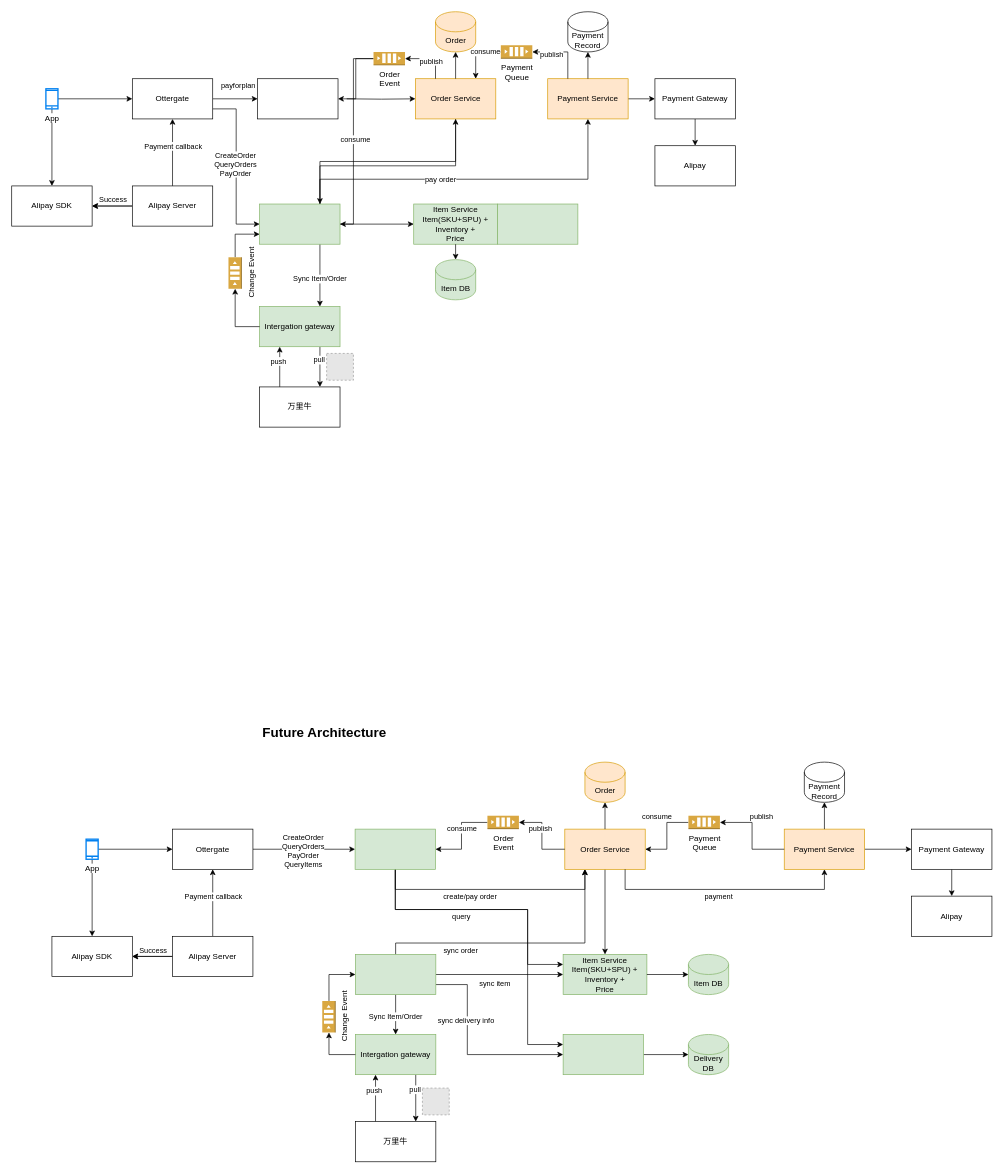
This 1004x1174 diagram has some shape labels left out. Grey dashed boxes stand in for pictures. The shapes that lost their labels are listed below. From the top down, each one's box as (x1, y1, x2, y2) in pixels, then its label:
(257, 78, 338, 119): SAAS Service Subscription+Plan
(259, 203, 340, 244): Mall Service 商品系统业务逻辑
(497, 203, 578, 244): Delivery
(354, 828, 436, 869): Shop Service 商品系统业务逻辑
(355, 954, 436, 995): Shop Sync Service
(562, 1034, 644, 1075): Delivery Service
